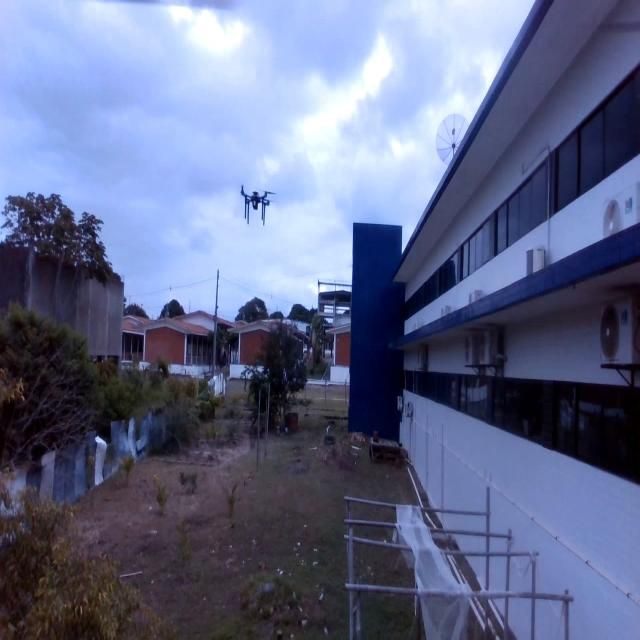-uav-: (238, 178, 274, 231)
